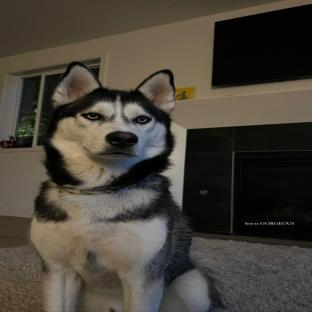Animal: (31, 62, 223, 312)
